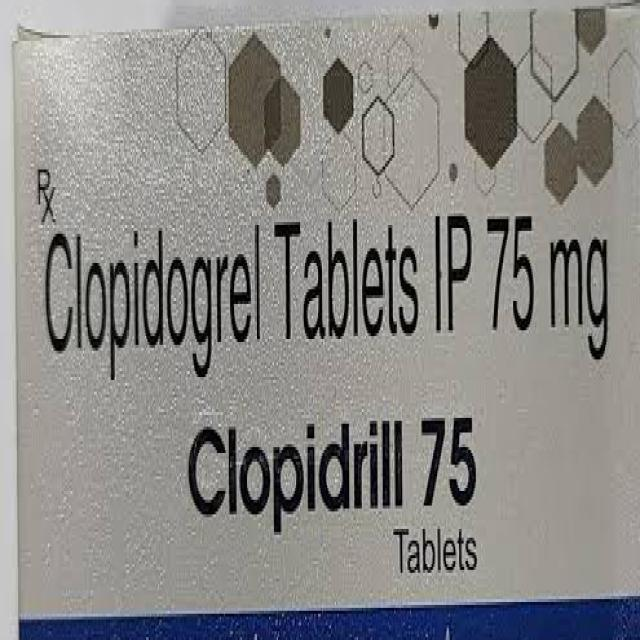drug-name: (185, 412, 480, 530)
